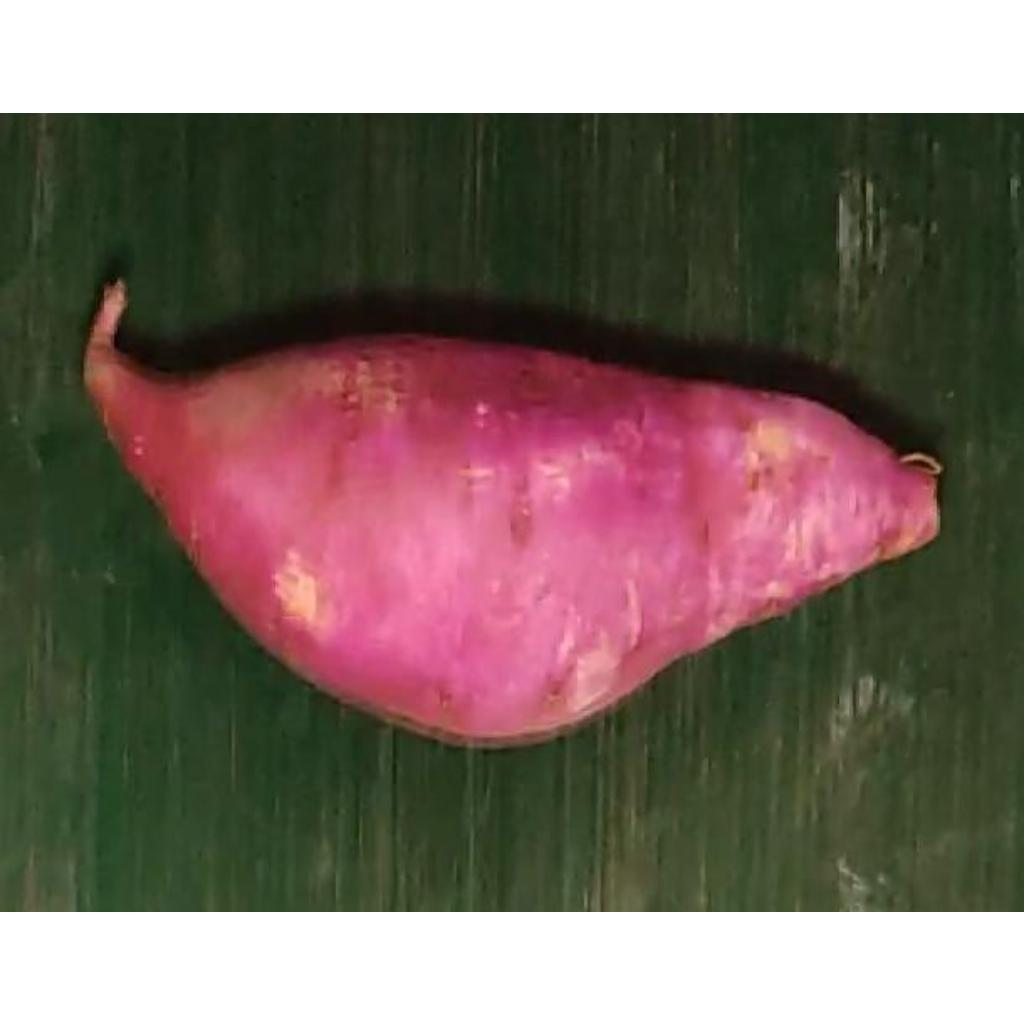Sweet Potato: (81, 280, 943, 742)
